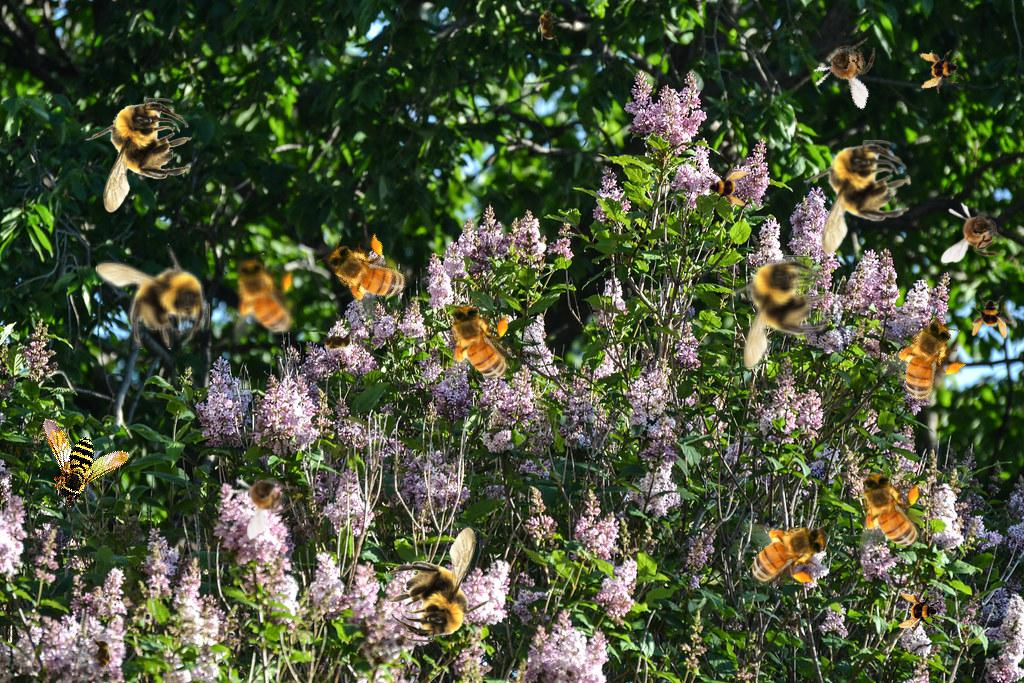Bee: (18, 390, 136, 510), (867, 305, 983, 418), (312, 216, 422, 333), (803, 140, 910, 255), (95, 243, 210, 350), (724, 255, 831, 370), (387, 527, 494, 642), (85, 98, 192, 213), (217, 452, 310, 542), (806, 23, 887, 111), (444, 298, 512, 391), (739, 519, 832, 587), (229, 253, 297, 346), (855, 466, 923, 559), (941, 202, 1011, 263), (916, 46, 966, 96), (704, 164, 748, 208), (970, 295, 1014, 339), (898, 591, 942, 635), (91, 634, 113, 674), (317, 330, 357, 352), (537, 5, 559, 45)
